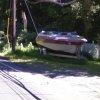Boat: (32, 26, 89, 60)
